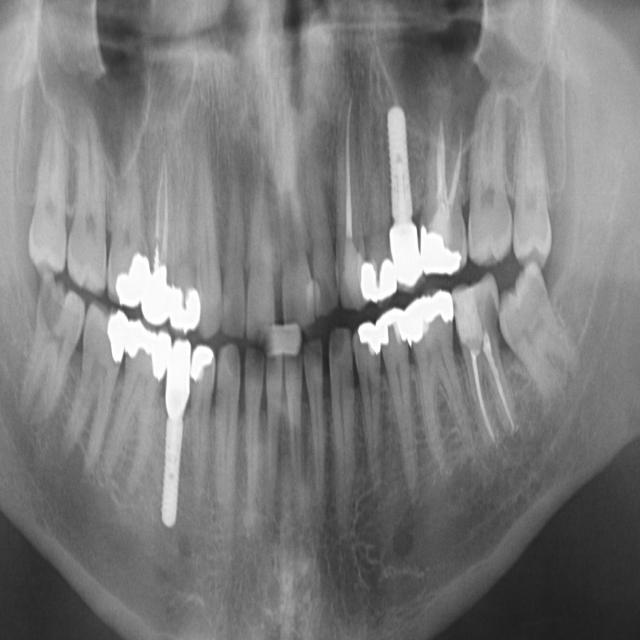dentin-curugu: (473, 293, 503, 334), (42, 279, 64, 331), (312, 272, 336, 300), (332, 325, 347, 355), (246, 349, 268, 368)
dolgu: (112, 254, 148, 302), (356, 262, 396, 299), (102, 308, 128, 359), (378, 309, 406, 350), (174, 285, 200, 324), (358, 319, 380, 361), (191, 343, 215, 380)
implant: (380, 83, 424, 292), (156, 334, 194, 528)
kanal-tedavisi: (326, 82, 371, 252), (460, 339, 524, 452), (430, 113, 472, 241), (140, 158, 178, 278)
kaplama: (395, 292, 459, 336), (420, 230, 465, 281), (139, 269, 173, 323), (129, 323, 163, 364)
